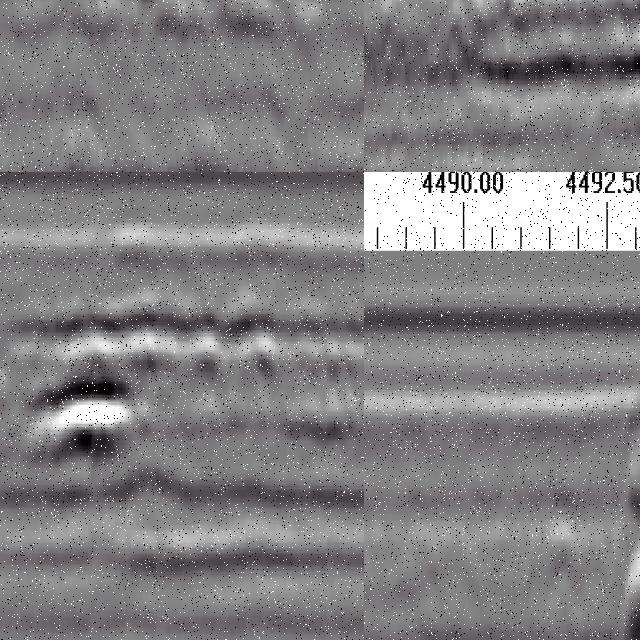crack: (619, 376, 640, 640)
loose: (16, 298, 293, 459), (1, 1, 311, 71), (453, 1, 640, 107)
